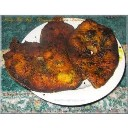seerfish: (5, 40, 80, 90), (70, 20, 119, 85), (42, 20, 79, 80)
